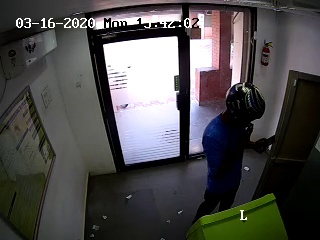helmet: (216, 80, 274, 130)
